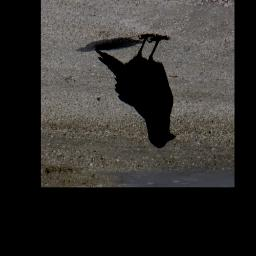Crow: (93, 33, 178, 150)
